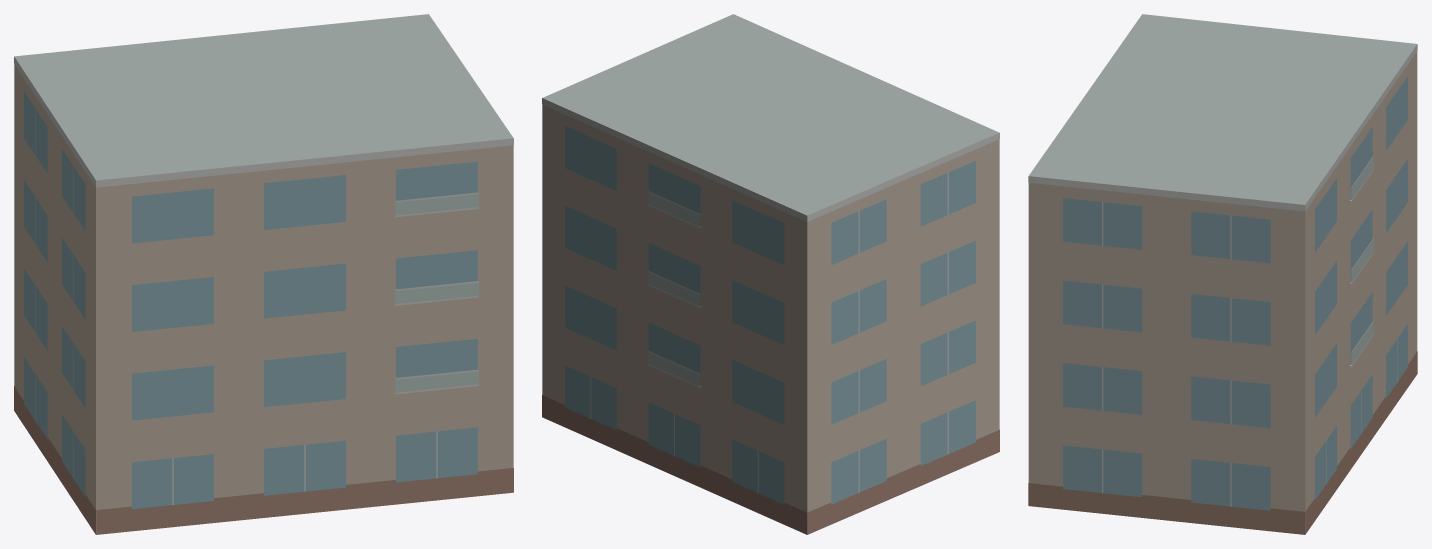
The model's file is survey-upis-32954700.glb.
3 renders of one model, left to right at view 1: azimuth 30°, elevation 25°; view 2: azimuth 150°, elevation 25°; view 3: azimuth 270°, elevation 25°, orthographic. The views are drawn at different scales.
Parts seen in each view (by area): view 1: survey-upis-32954700.tmp; view 2: survey-upis-32954700.tmp; view 3: survey-upis-32954700.tmp.
Boxes of the visible parts, <box> form: survey-upis-32954700.tmp: <box>14,14,513,534</box>; survey-upis-32954700.tmp: <box>542,14,999,534</box>; survey-upis-32954700.tmp: <box>1028,14,1417,534</box>.
Bounding box in the file's own units: 15.28 × 12.3 × 13.15.
